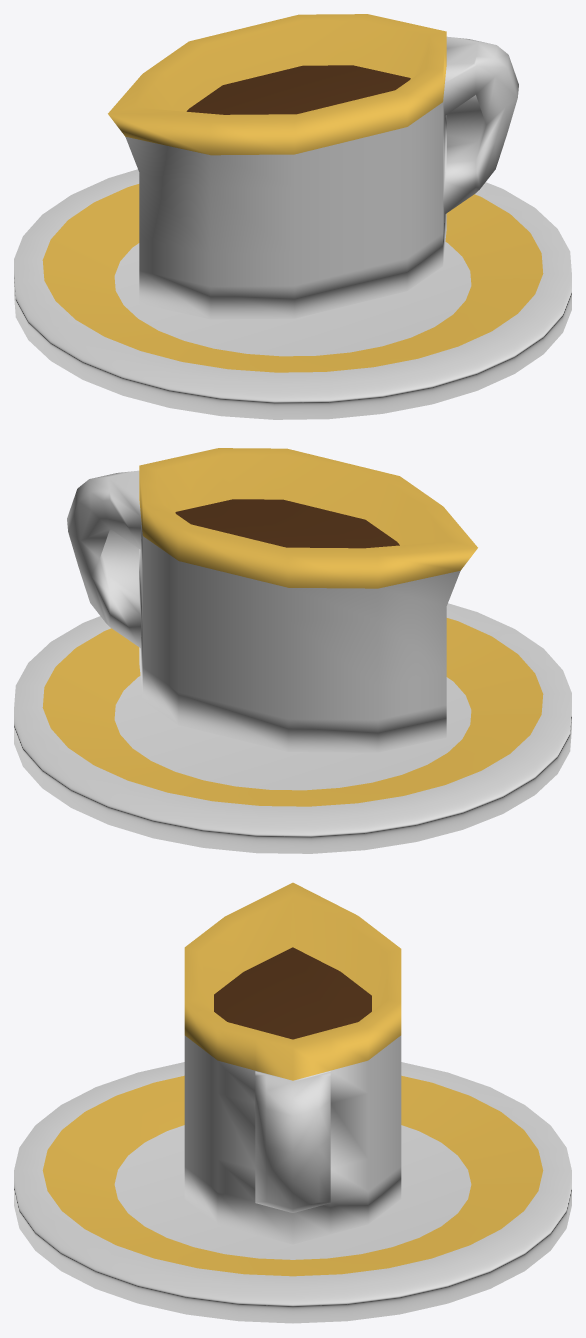
Rendered from gravy.fbx.
3 renders of one model, top to bottom at view 1: azimuth 30°, elevation 25°; view 2: azimuth 150°, elevation 25°; view 3: azimuth 270°, elevation 25°, orthographic.
Visible parts, largest first — view 1: Cylinder; view 2: Cylinder; view 3: Cylinder.
Part boxes in pixels (x1=…): Cylinder: x1=14, y1=14, x2=571, y2=419; Cylinder: x1=14, y1=448, x2=571, y2=853; Cylinder: x1=14, y1=882, x2=571, y2=1323.
Bounding box in the file's own units: 515 × 237 × 515.
